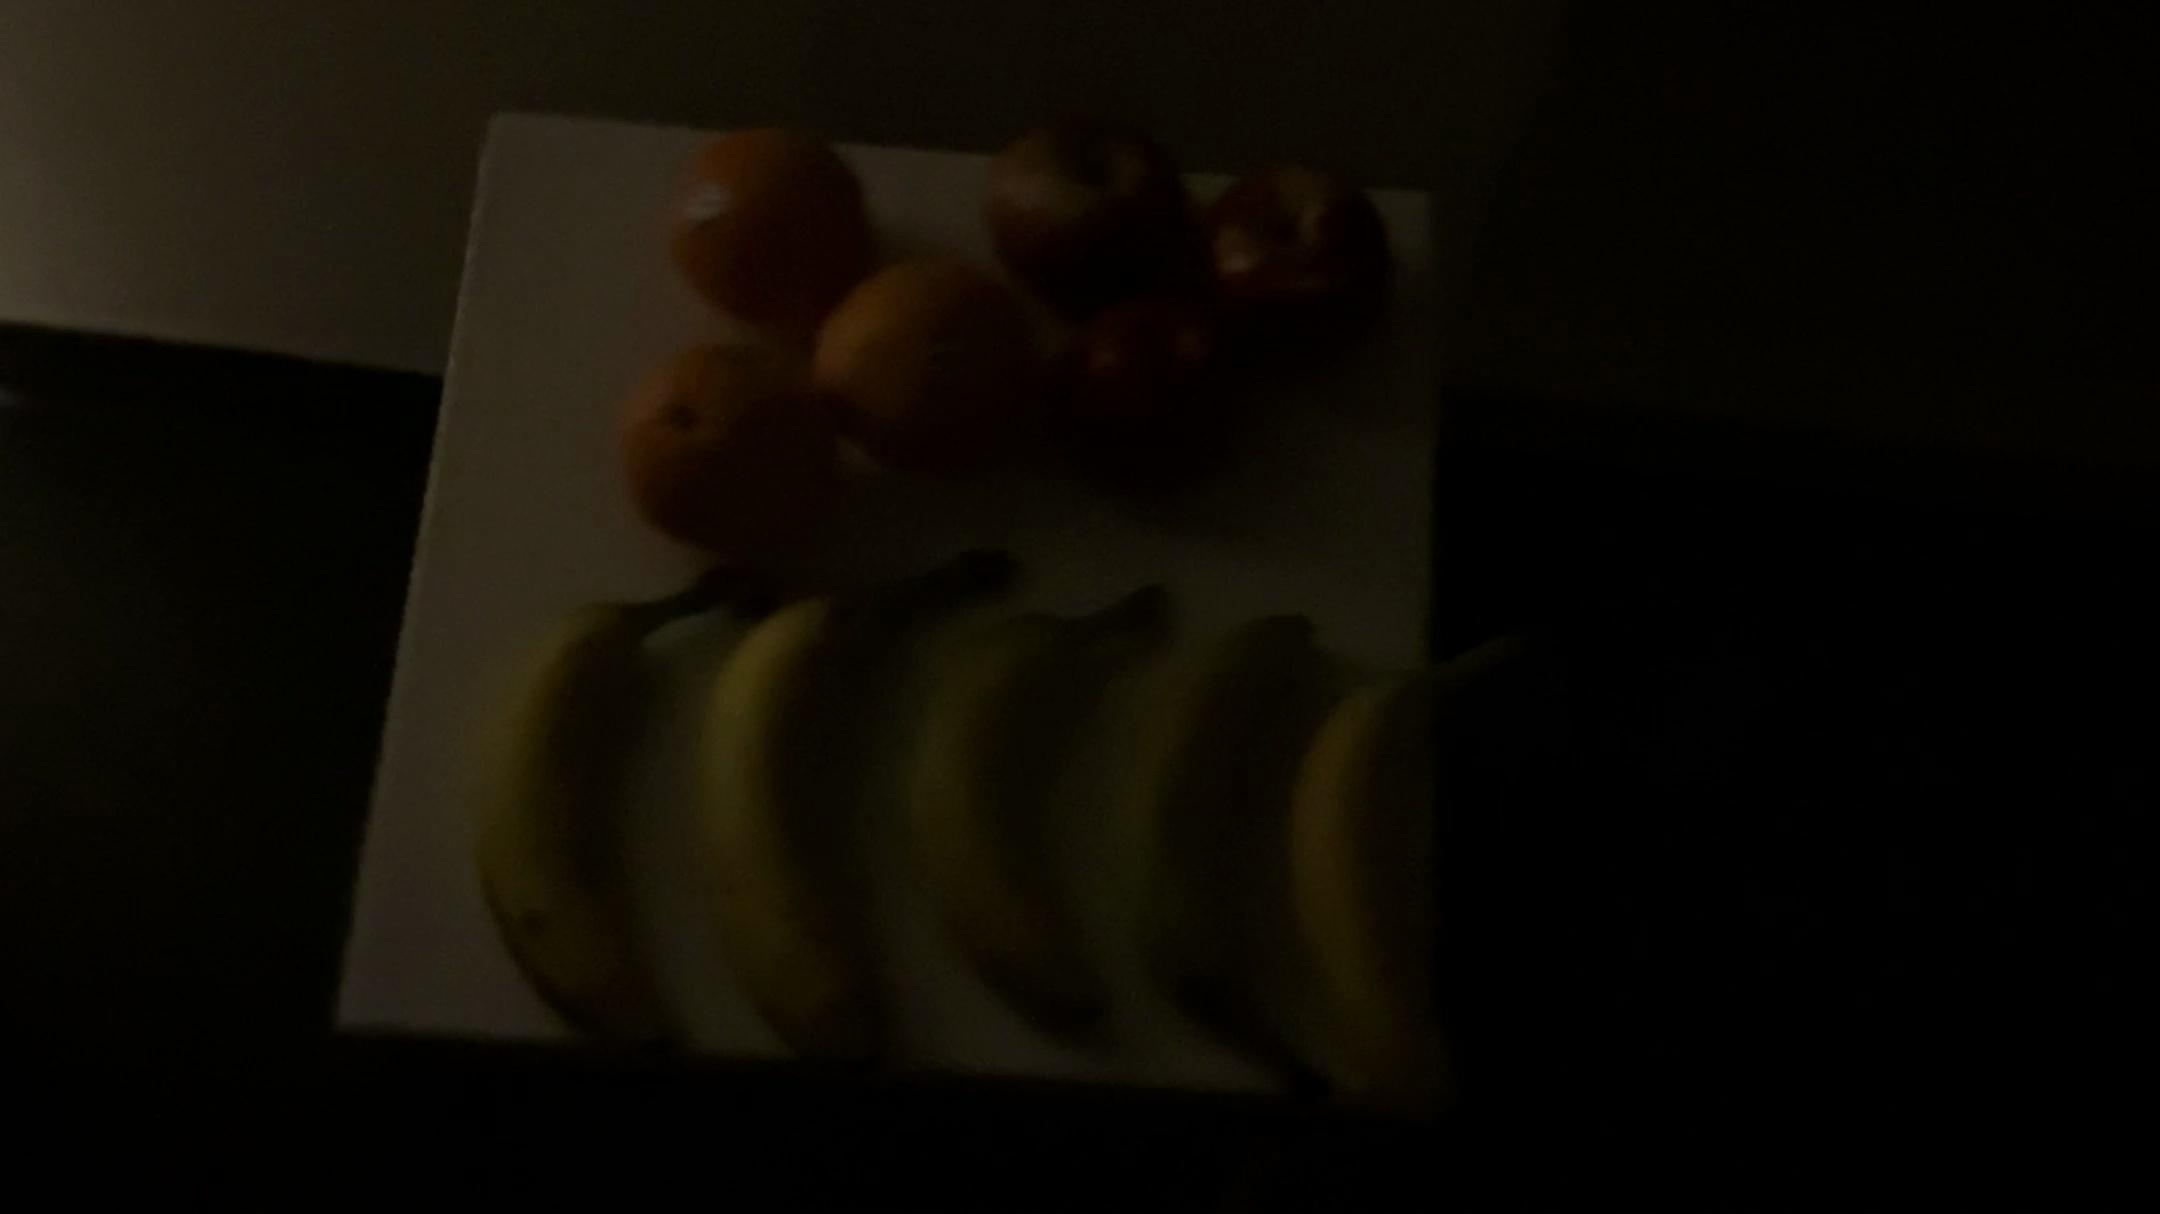apple: (958, 114, 1205, 335), (1021, 275, 1245, 516), (1179, 141, 1400, 358)
banana: (720, 548, 1000, 1089), (479, 548, 742, 1077), (927, 551, 1173, 1067), (1107, 583, 1343, 1069), (1280, 635, 1486, 1112)
orange: (823, 261, 1030, 509), (657, 114, 880, 329), (617, 331, 829, 554)
